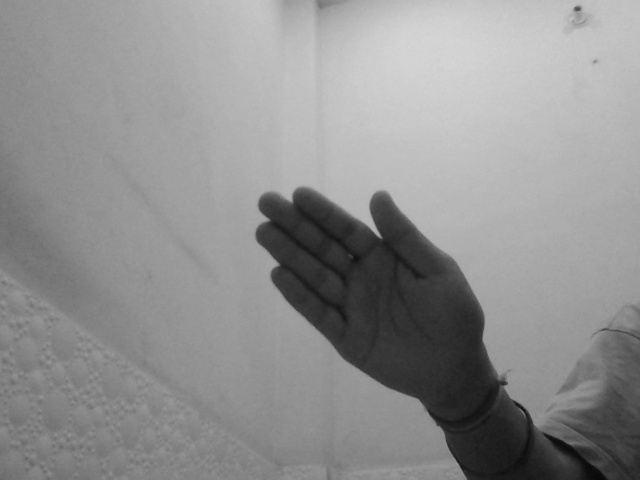Hello: (252, 187, 487, 398)
